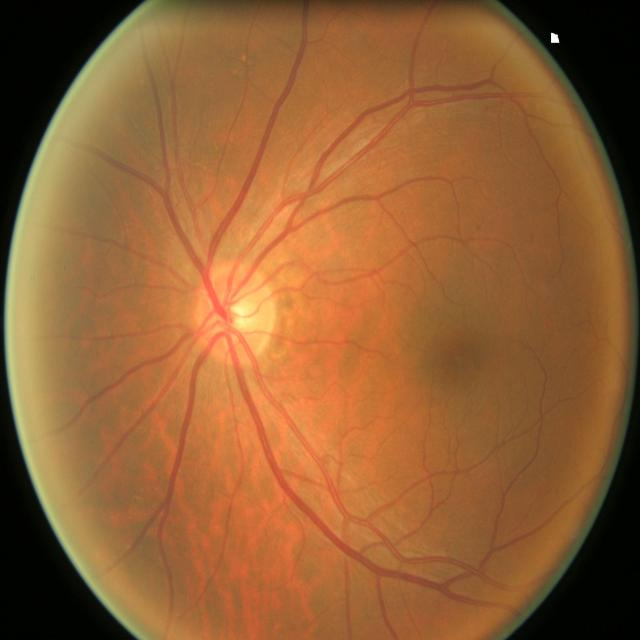OC: (230, 302, 250, 328)
OD: (197, 268, 274, 365)
